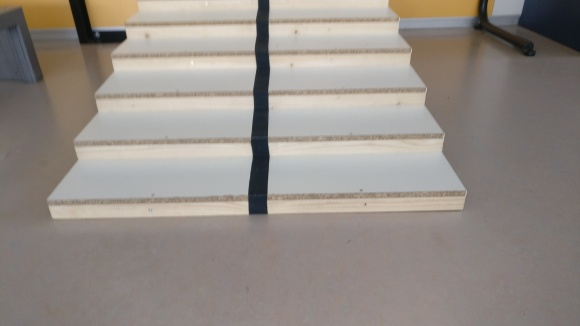stairs: (43, 1, 471, 222)
